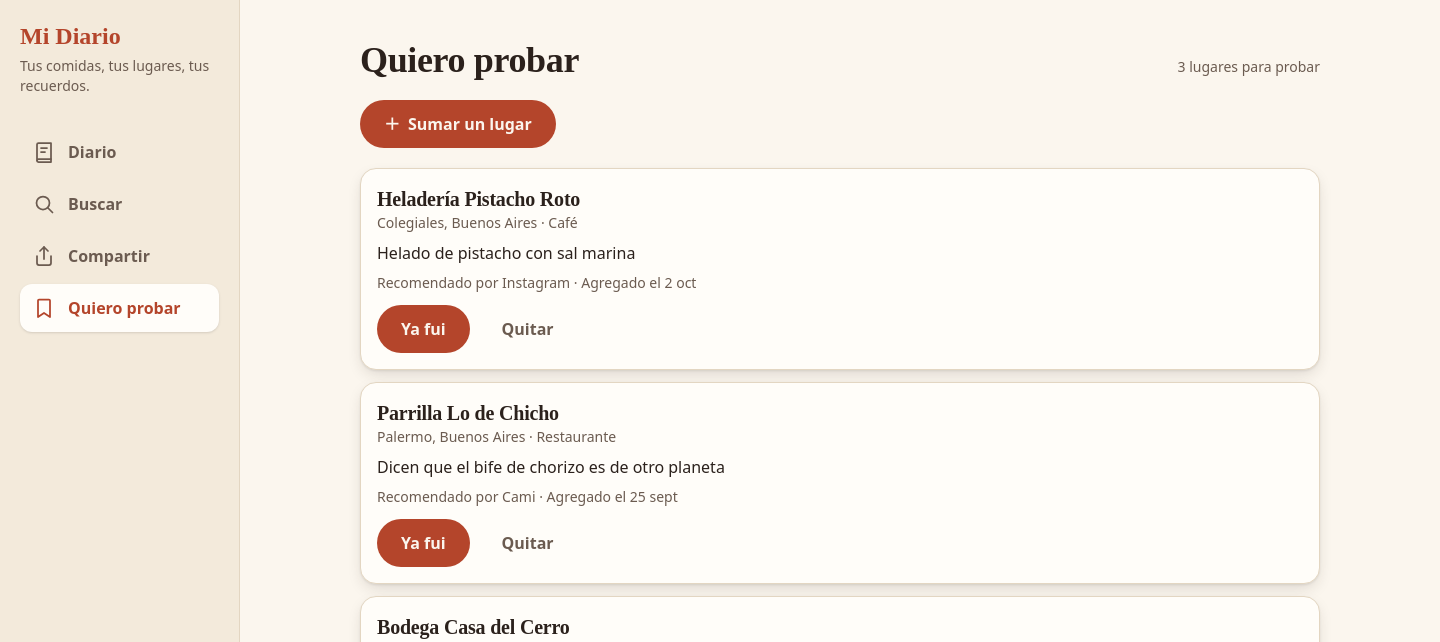
Test: Wishlist ("Quiero probar") › adding a place › explains a failure and keeps the form
Click the button "＋ Sumar un lugar": [458, 124] box [360,100,556,148]
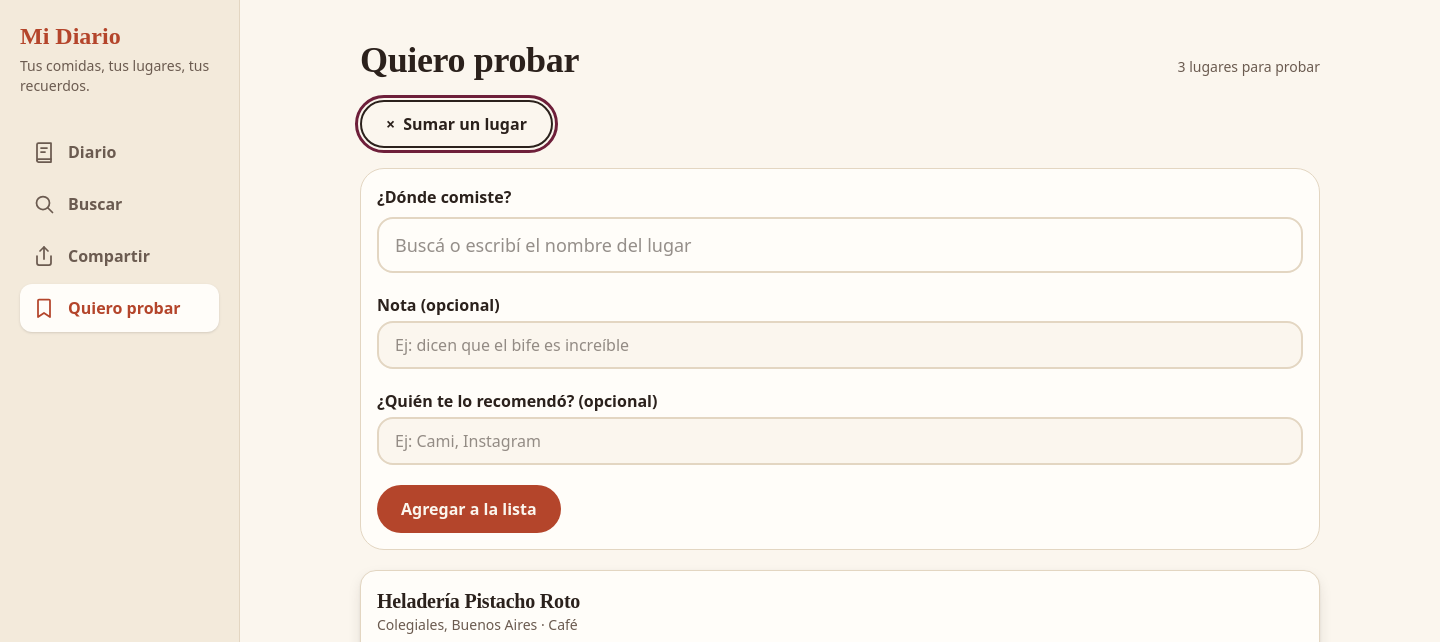
In the field labelled "¿Dónde comiste?": [840, 245] box [377,217,1303,273], type "choripan"
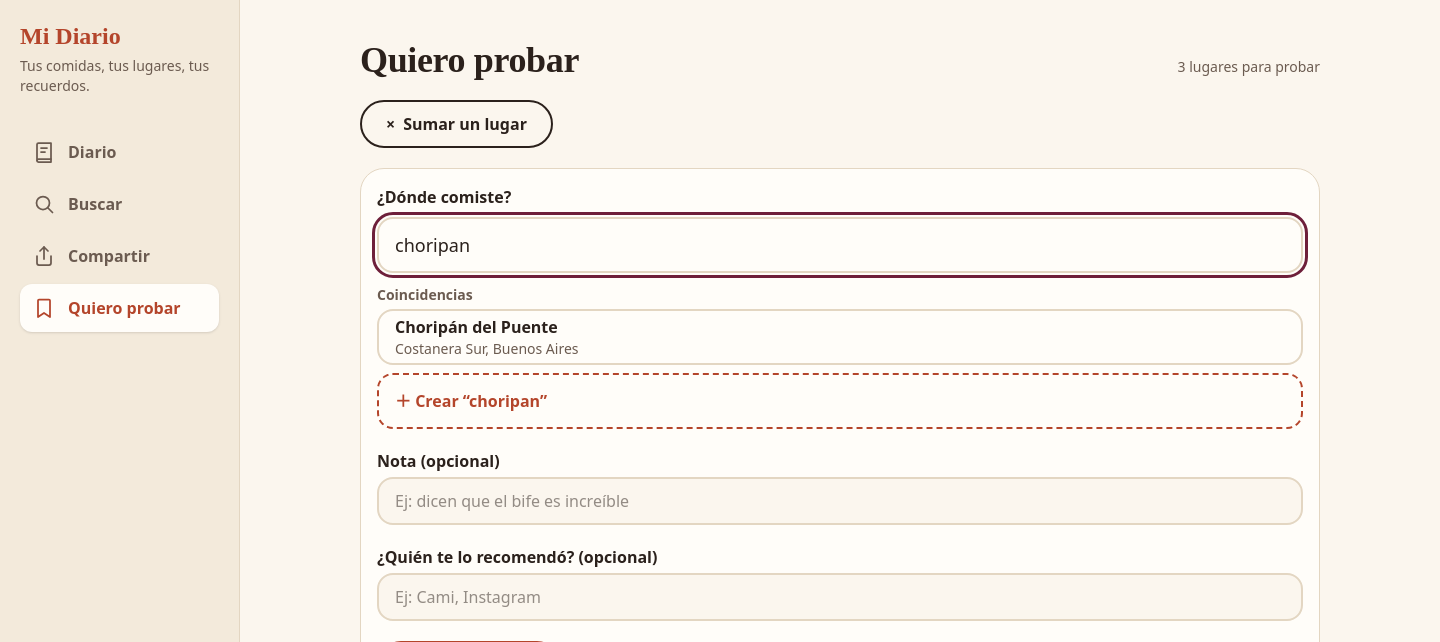
Click the button "Choripán del Puente Costanera Sur, Buenos Aires": [476, 327] box [377,309,1303,365]
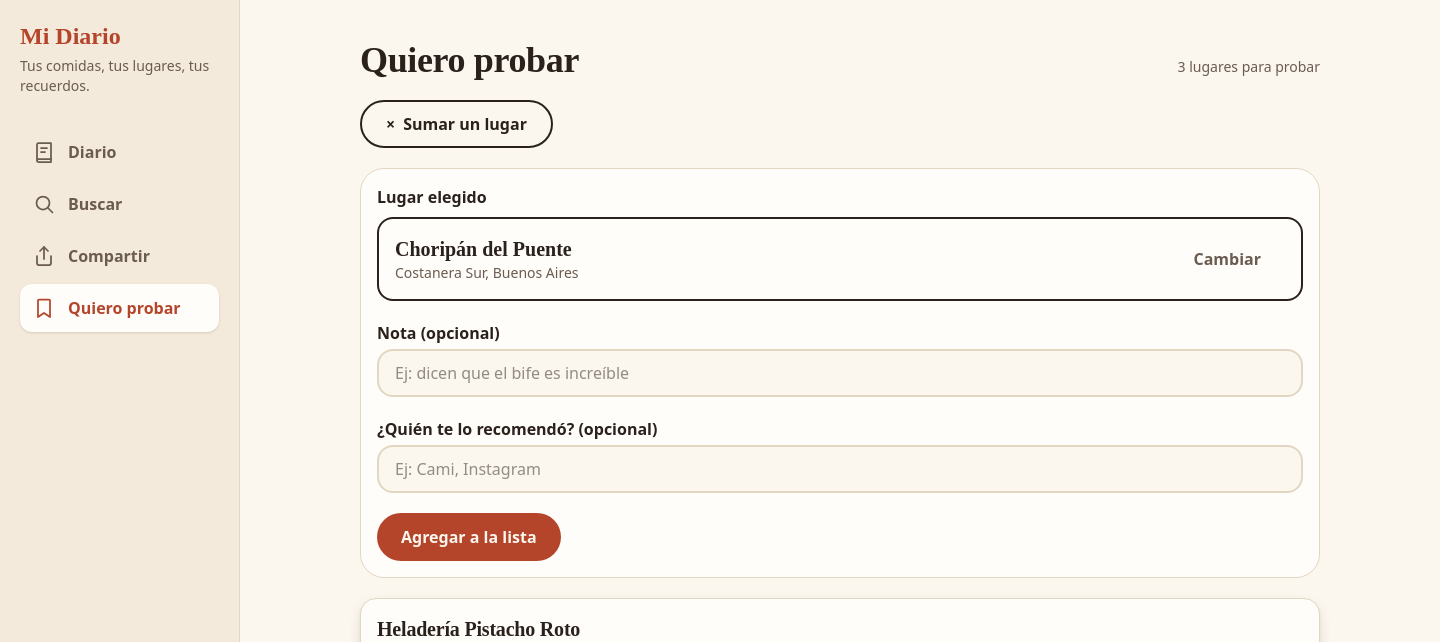
Click the button "Agregar a la lista": [469, 537] box [377,513,561,561]
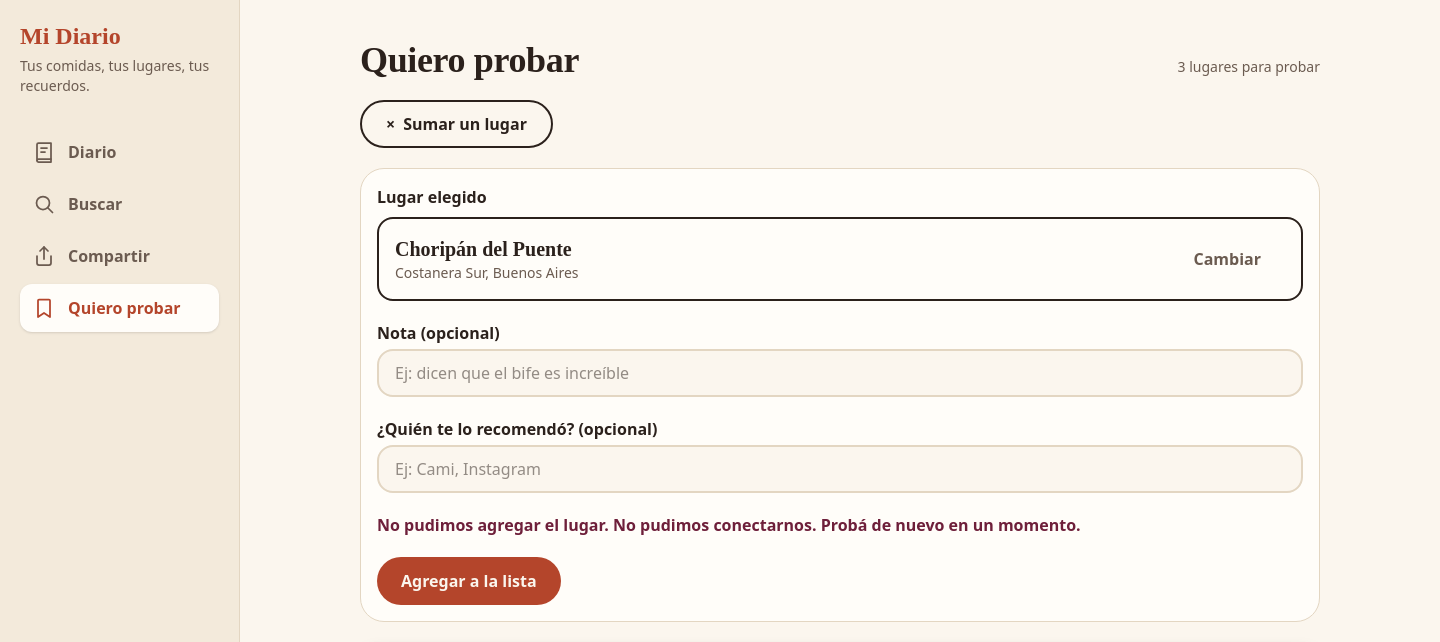
Now the text "Lugar elegido" is shown, box [377,186,487,208]
Now the text "No pudimos agregar el lugar" is shown, box [377,514,609,536]
